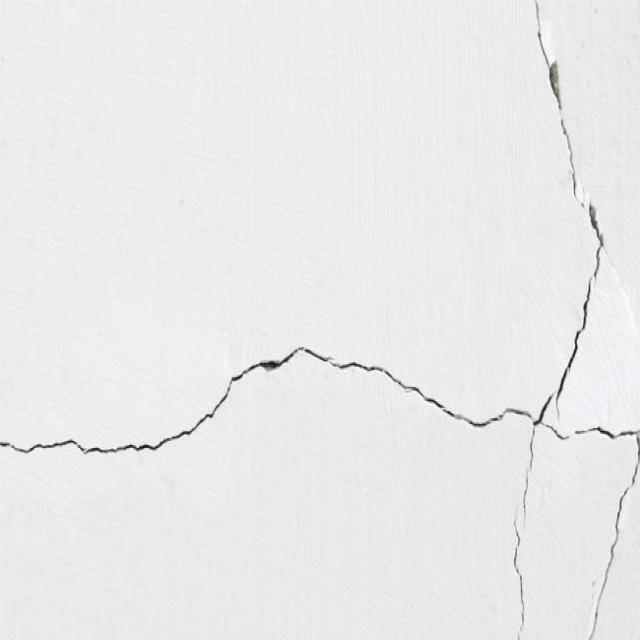Crack: (0, 341, 538, 455), (534, 3, 604, 419), (540, 414, 639, 638), (508, 420, 538, 638)
